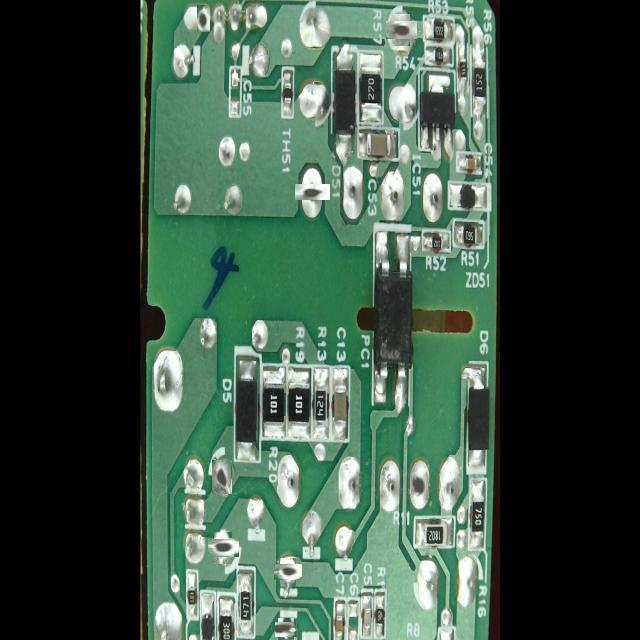damged: (212, 460, 232, 494), (299, 179, 325, 205), (210, 536, 236, 561), (388, 18, 414, 42), (277, 561, 299, 584), (412, 472, 428, 500), (196, 4, 210, 32), (276, 620, 296, 638)
